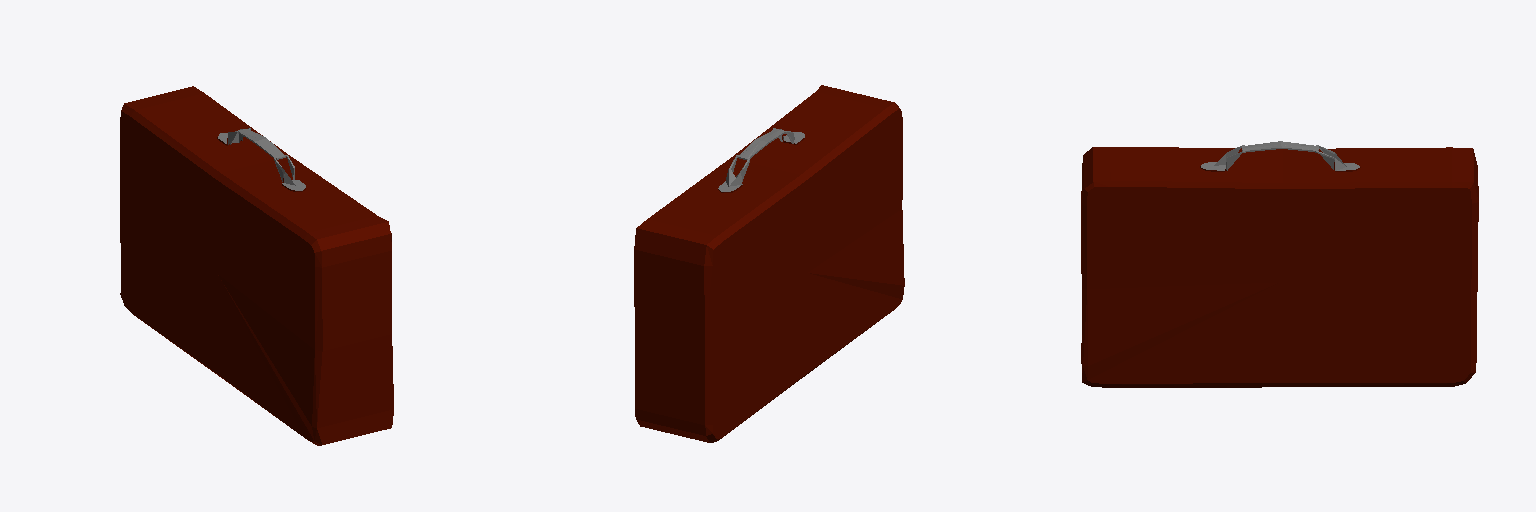
The model's file is suitcase_brown.obj.
3 views of the same model, side by side, from view 1: azimuth 30°, elevation 25°; view 2: azimuth 150°, elevation 25°; view 3: azimuth 270°, elevation 25° (orthographic).
Parts seen in each view (by area): view 1: kofer.001; view 2: kofer.001; view 3: kofer.001.
Boxes of the visible parts, x1,y1,x2,y2 form: kofer.001: [120, 86, 393, 445]; kofer.001: [634, 85, 904, 442]; kofer.001: [1081, 141, 1478, 387].
Bounding box in the file's own units: 0.0078 × 0.0212 × 0.0334.